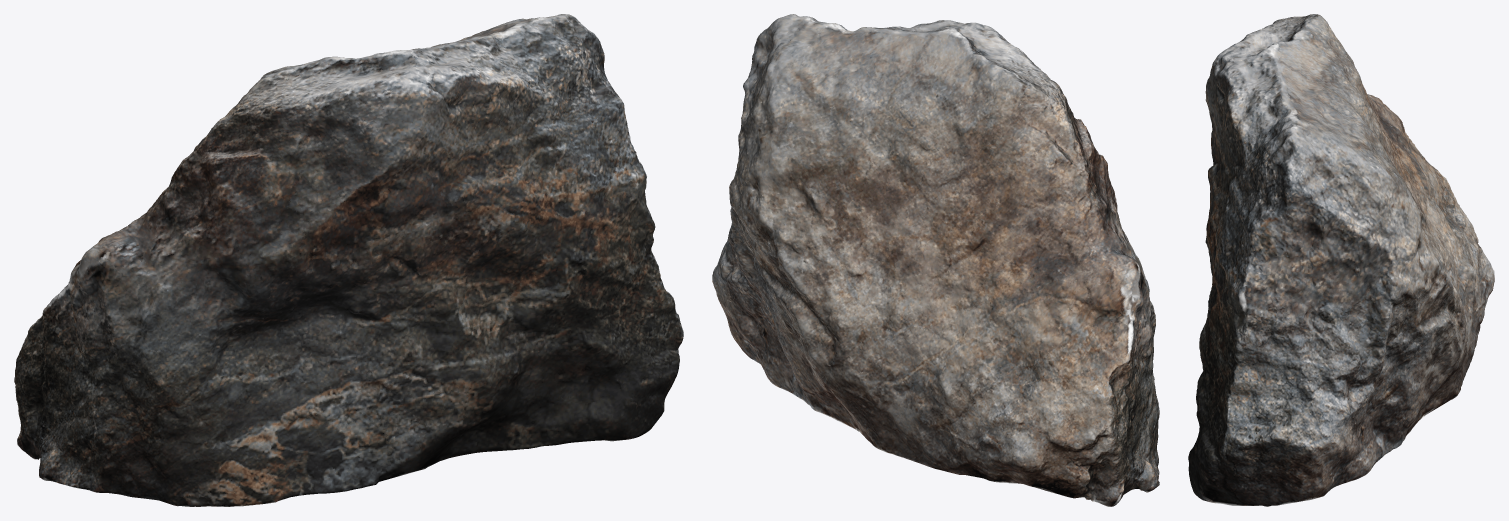
The model's file is sparse2.glb.
3 views of the same model, side by side, from view 1: azimuth 30°, elevation 25°; view 2: azimuth 150°, elevation 25°; view 3: azimuth 270°, elevation 25° (orthographic). The views are drawn at different scales.
Parts seen in each view (by area): view 1: Node; view 2: Node; view 3: Node.
Part boxes in pixels (x1=…): Node: x1=14, y1=14, x2=683, y2=506; Node: x1=712, y1=14, x2=1159, y2=506; Node: x1=1188, y1=14, x2=1494, y2=506.
Size of the model in its own units: 3.97 by 2.77 by 2.12.
Materials: 1 (1 with a texture image).
